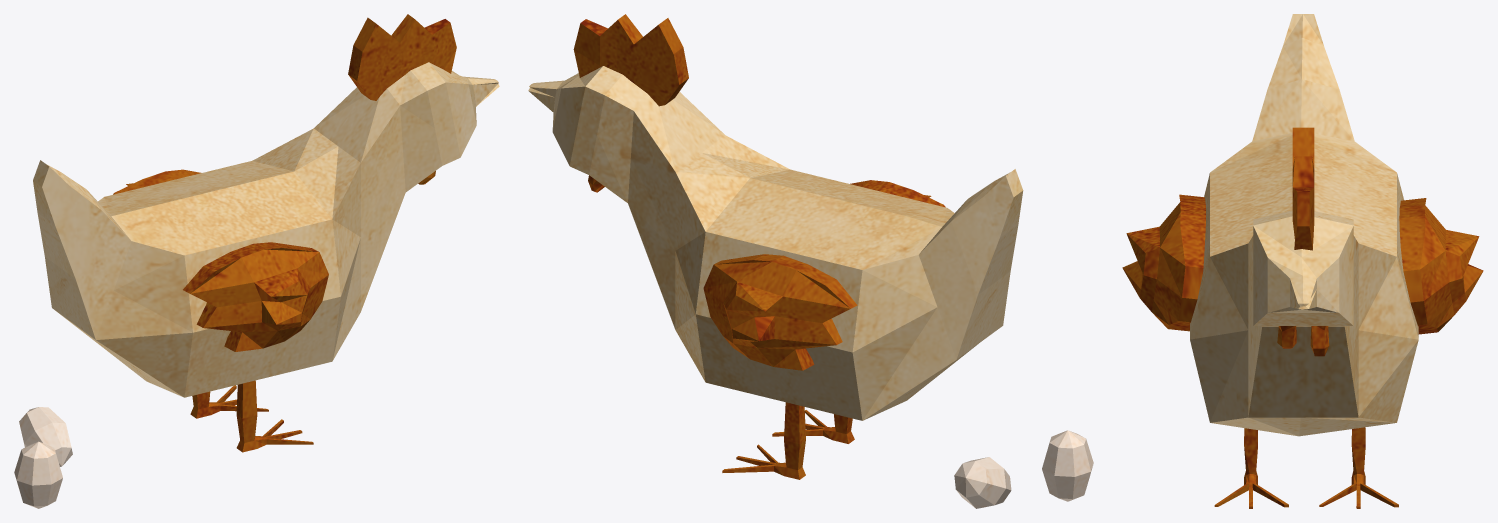
Rendered from Huhn.fbx.
3 views of the same model, side by side, from view 1: azimuth 30°, elevation 25°; view 2: azimuth 150°, elevation 25°; view 3: azimuth 270°, elevation 25° (orthographic). The views are drawn at different scales.
Parts seen in each view (by area): view 1: Ei_2; view 2: Ei_2; view 3: Ei_2.
Boxes of the visible parts, box(x1,y1,x2,y2) form: Ei_2: box(14, 14, 499, 508); Ei_2: box(528, 14, 1093, 508); Ei_2: box(1122, 14, 1483, 508).
Bounding box in the file's own units: 410 × 297 × 218.
